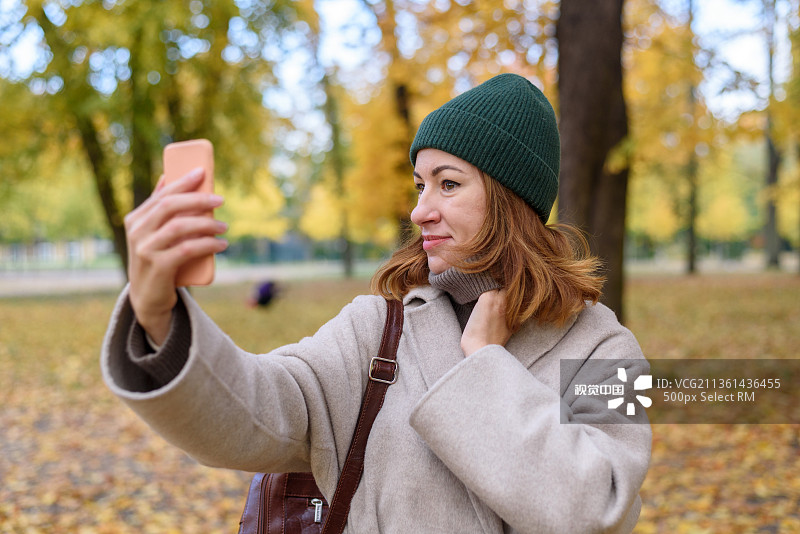taking photos: (87, 124, 243, 332)
